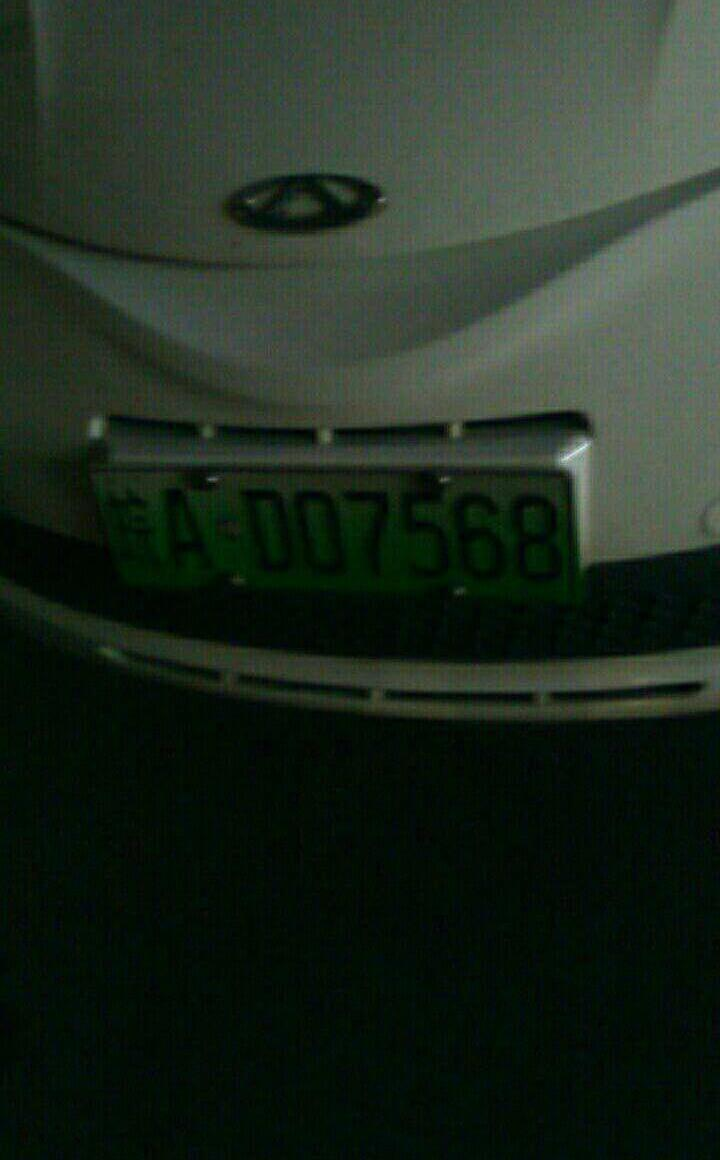car_id: (89, 466, 575, 601)
